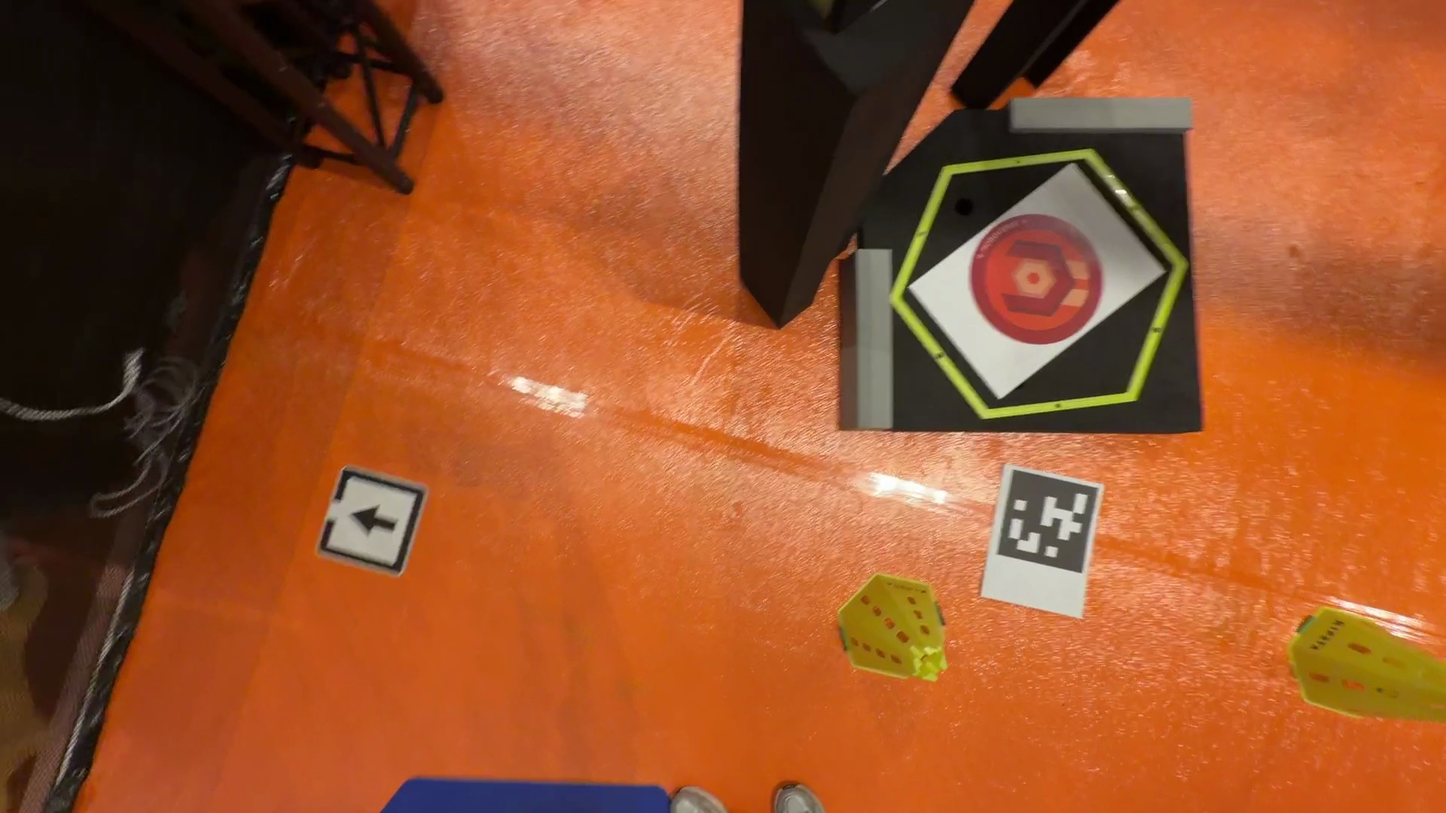landing_pad: (969, 217, 1106, 345)
